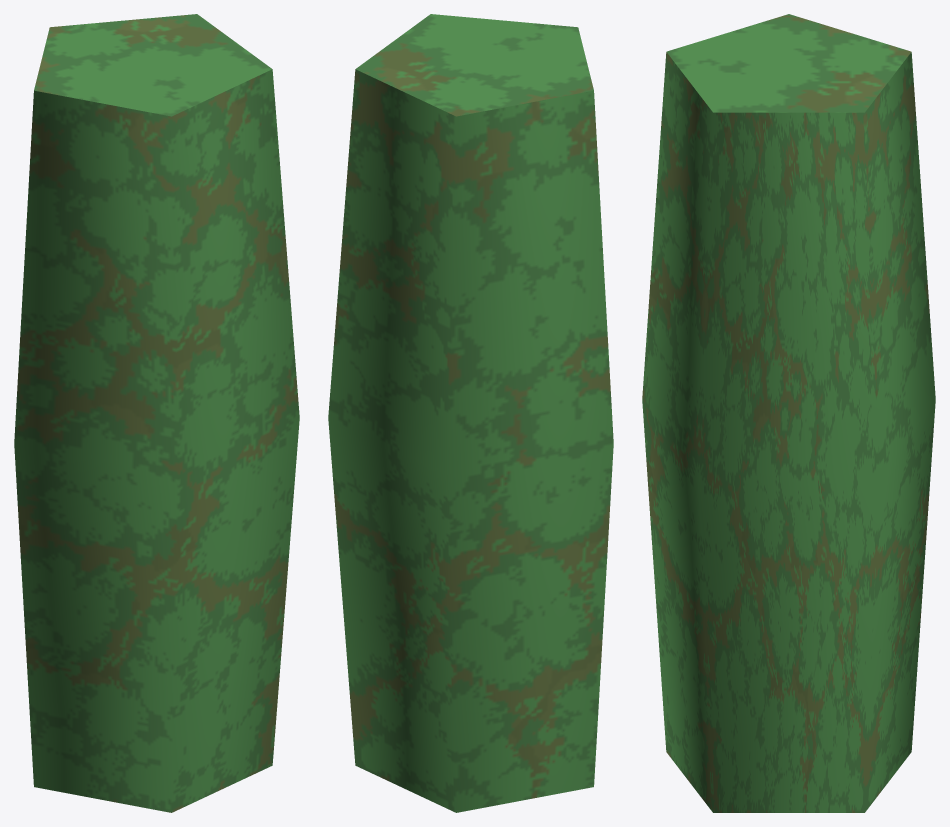
File: RootA.fbx
3 renders of one model, left to right at view 1: azimuth 30°, elevation 25°; view 2: azimuth 150°, elevation 25°; view 3: azimuth 270°, elevation 25°, orthographic.
Visible parts, largest first — view 1: RootA; view 2: RootA; view 3: RootA.
Part boxes in pixels (x1,y1,x2,y2): RootA: [14, 14, 299, 812]; RootA: [328, 14, 613, 812]; RootA: [642, 14, 935, 812].
Bounding box in the file's own units: 512 × 1417 × 538.
